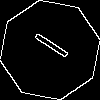I: (25, 25, 70, 61)
